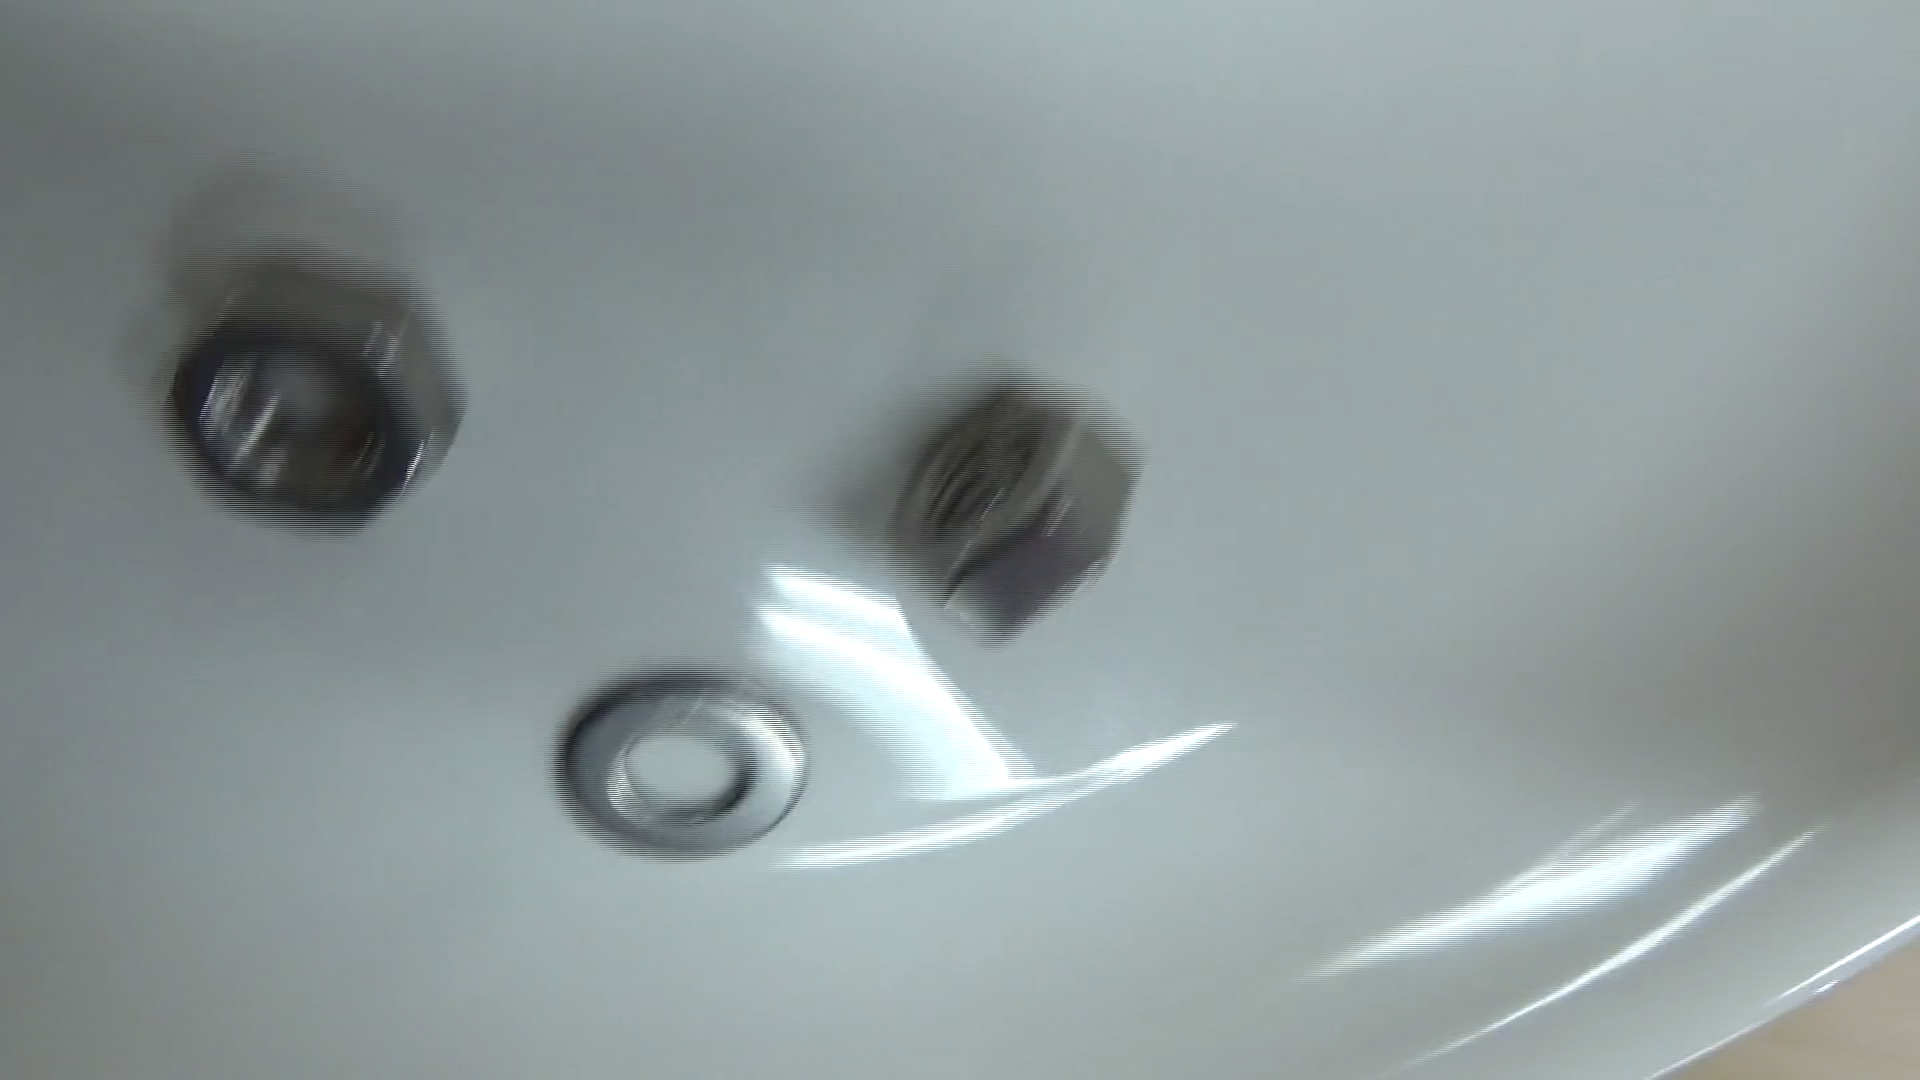nut: (131, 235, 495, 578), (865, 343, 1167, 646)
washer: (531, 618, 833, 907)
